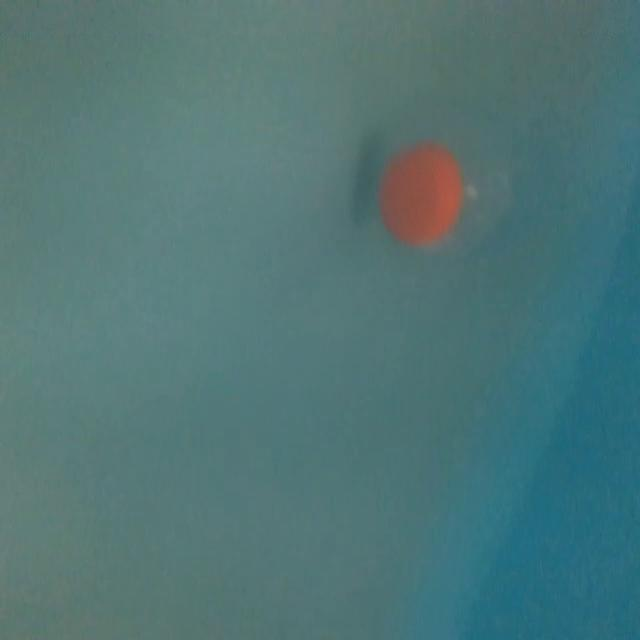plastic bottle: (373, 75, 635, 285)
